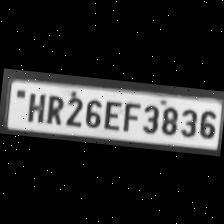2: (62, 93, 84, 127)
3: (176, 104, 198, 138), (139, 100, 160, 134)
6: (196, 106, 219, 140), (82, 94, 102, 128)
8: (158, 102, 180, 136)
E: (102, 96, 122, 130)
F: (120, 98, 140, 132)
H: (23, 90, 45, 122)
R: (43, 90, 65, 126)
